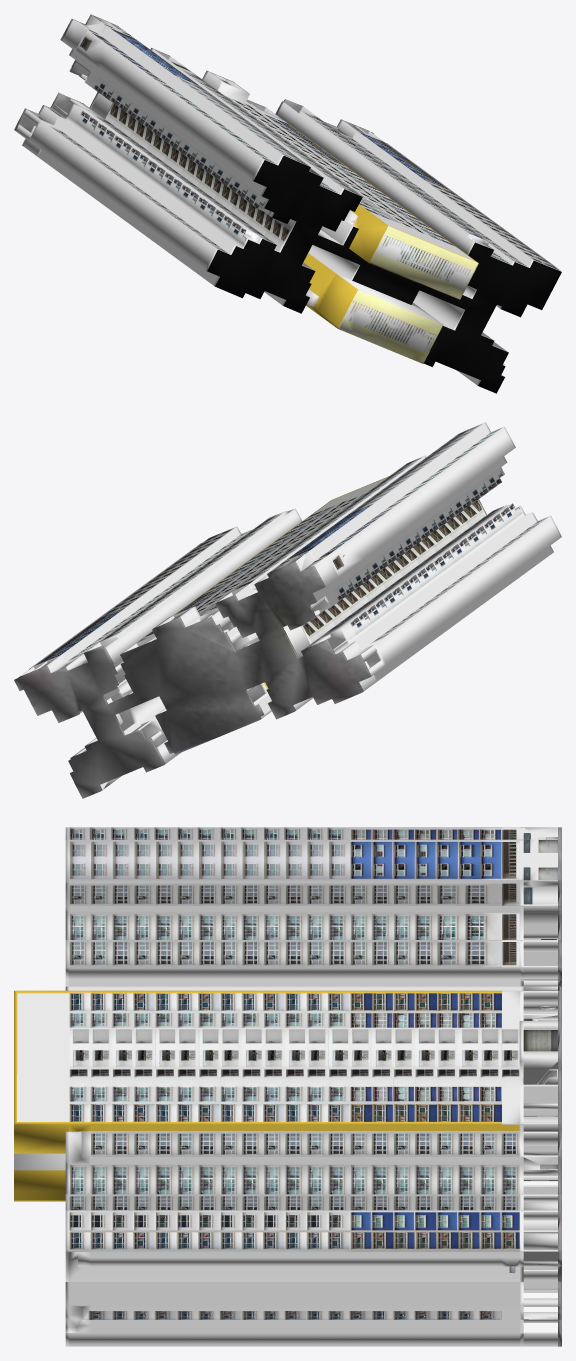
Rendered from amk_blk307c_building.obj.
3 renders of one model, top to bottom at view 1: azimuth 30°, elevation 25°; view 2: azimuth 150°, elevation 25°; view 3: azimuth 270°, elevation 25°, orthographic. The views are drawn at different scales.
Visible parts, largest first — view 1: polygon.770; view 2: polygon.770; view 3: polygon.770.
Boxes of the visible parts, left/top/right/bottom form: polygon.770: left=14, top=14, right=561, bottom=393; polygon.770: left=14, top=422, right=561, bottom=798; polygon.770: left=14, top=827, right=561, bottom=1346.
Size of the model in its own units: 68.48 by 52.97 by 70.43.
1 material, 1 textured.
